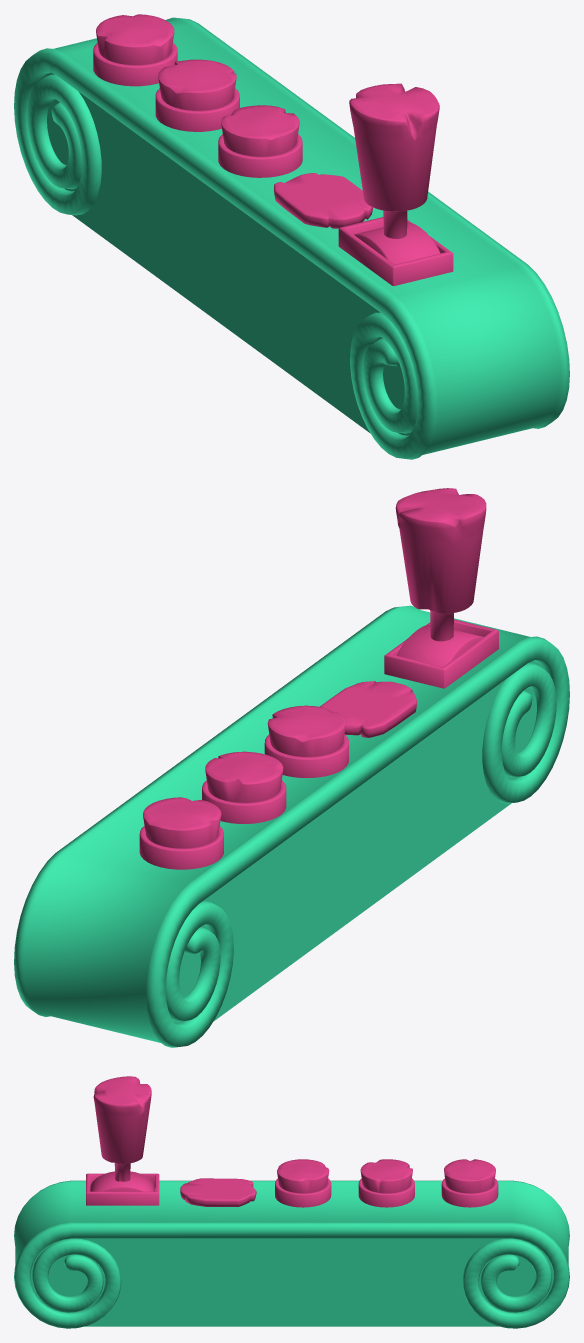
The model's file is Hud_3D_Low.fbx.
3 views of the same model, one above another, from view 1: azimuth 30°, elevation 25°; view 2: azimuth 150°, elevation 25°; view 3: azimuth 270°, elevation 25° (orthographic). The views are drawn at different scales.
Parts seen in each view (by area): view 1: Hud_Wood, Joystick, Button_frame, Pancarte, Button_Normal2, Button_Normal3, Button_Normal1, Joystick_Roller; view 2: Hud_Wood, Joystick, Button_frame, Pancarte, Button_Normal2, Button_Normal3, Button_Normal1, Joystick_Roller; view 3: Hud_Wood, Joystick, Button_frame, Pancarte, Button_Normal1, Button_Normal3, Button_Normal2, Joystick_Roller.
Boxes of the visible parts, x1=… form: Hud_Wood: x1=14, y1=17, x2=569, y2=459; Joystick: x1=349, y1=83, x2=439, y2=238; Button_frame: x1=93, y1=43, x2=453, y2=285; Pancarte: x1=274, y1=173, x2=372, y2=228; Button_Normal2: x1=158, y1=59, x2=236, y2=110; Button_Normal3: x1=221, y1=105, x2=299, y2=156; Button_Normal1: x1=96, y1=14, x2=174, y2=64; Joystick_Roller: x1=354, y1=222, x2=440, y2=264; Hud_Wood: x1=14, y1=605, x2=569, y2=1047; Joystick: x1=395, y1=488, x2=486, y2=641; Button_frame: x1=139, y1=619, x2=498, y2=869; Pancarte: x1=320, y1=681, x2=416, y2=737; Button_Normal2: x1=205, y1=751, x2=283, y2=802; Button_Normal3: x1=267, y1=705, x2=346, y2=756; Button_Normal1: x1=143, y1=797, x2=221, y2=848; Joystick_Roller: x1=397, y1=624, x2=483, y2=666; Hud_Wood: x1=14, y1=1180, x2=569, y2=1328; Joystick: x1=93, y1=1076, x2=151, y2=1181; Button_frame: x1=86, y1=1173, x2=498, y2=1207; Pancarte: x1=180, y1=1178, x2=256, y2=1206; Button_Normal1: x1=444, y1=1159, x2=495, y2=1193; Button_Normal3: x1=277, y1=1159, x2=329, y2=1193; Button_Normal2: x1=360, y1=1159, x2=412, y2=1193; Joystick_Roller: x1=90, y1=1171, x2=154, y2=1191.
Bounding box in the file's own units: 101 × 215 × 512.
